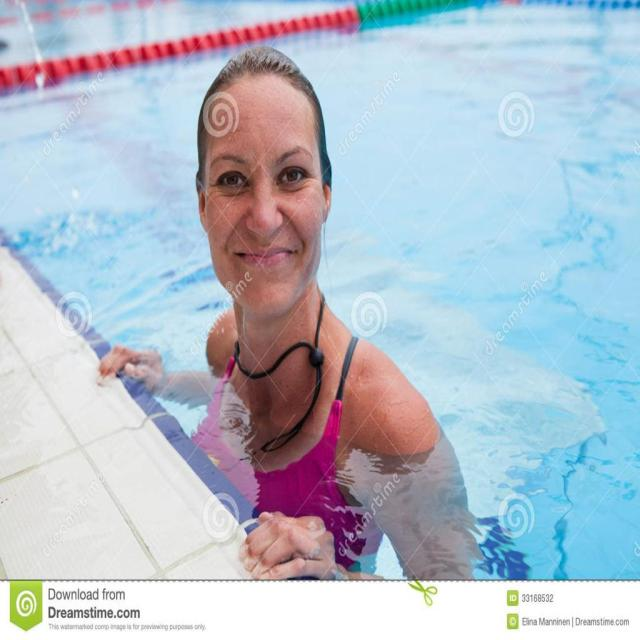Face: (197, 62, 328, 317)
